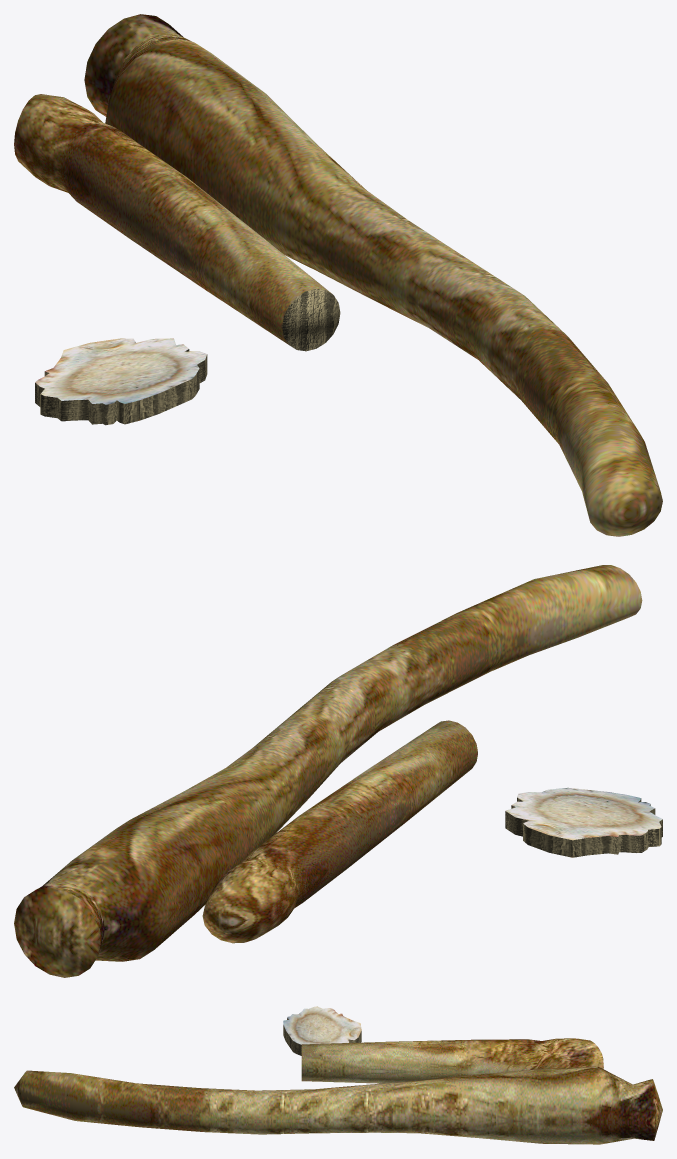
The model's file is jiegeng.FBX.
3 renders of one model, top to bottom at view 1: azimuth 30°, elevation 25°; view 2: azimuth 150°, elevation 25°; view 3: azimuth 270°, elevation 25°, orthographic. The views are drawn at different scales.
Visible parts, largest first — view 1: Cylinder002, Cylinder001, Line001; view 2: Cylinder002, Cylinder001, Line001; view 3: Cylinder002, Cylinder001, Line001.
Part boxes in pixels (left/top/right/bottom): Cylinder002: left=84, top=14, right=662, bottom=536; Cylinder001: left=14, top=94, right=340, bottom=351; Line001: left=35, top=338, right=207, bottom=425; Cylinder002: left=14, top=565, right=642, bottom=977; Cylinder001: left=202, top=720, right=477, bottom=943; Line001: left=505, top=787, right=662, bottom=857; Cylinder002: left=14, top=1066, right=662, bottom=1144; Cylinder001: left=301, top=1038, right=603, bottom=1083; Line001: left=283, top=1006, right=361, bottom=1055.
Size of the model in its own units: 21.94 by 5.96 by 50.26.
